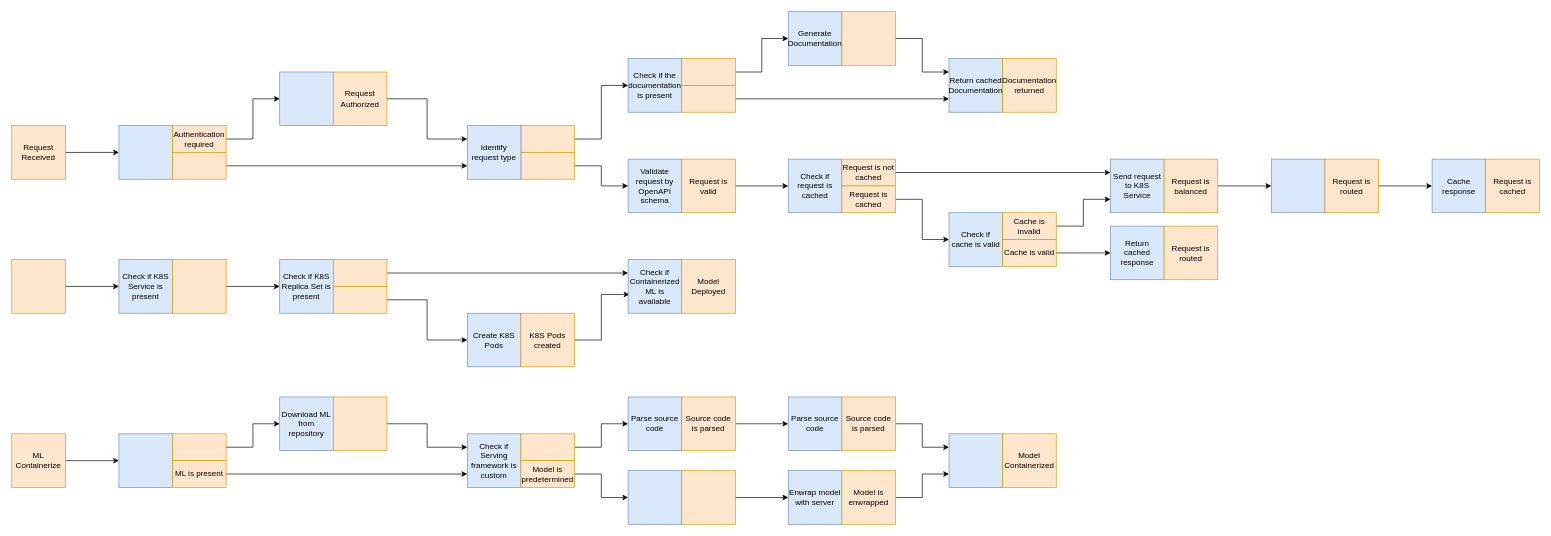
The diagram is 1551 pixels wide and 536 high, and some of its shapes have lost their labels. The shapes that lost their labels are listed below. From the top down, each one's box as (x1, y1, x2, y2) in pixels, then its label:
(841, 11, 895, 65): Documentation updated
(681, 58, 735, 85): Documentation is not present
(279, 71, 333, 126): Authenticate user session
(681, 85, 735, 112): Documentation Present
(118, 125, 173, 179): Check if the authentication is required
(520, 125, 575, 152): Get OpenAPI Documentation
(172, 152, 226, 179): Authentication is not required
(520, 152, 575, 179): Service Request
(1271, 158, 1325, 213): Send request to K8S Pod
(11, 259, 65, 313): ML Deployment
(172, 259, 226, 313): K8S Service is updated
(333, 259, 387, 286): K8S Replica Set is updated
(333, 286, 387, 313): K8S Replica Set is scaled
(333, 396, 387, 451): ML is localy available
(118, 433, 173, 487): Check if ML is present
(172, 433, 226, 461): ML is not present
(520, 433, 575, 461): Model is custom
(948, 433, 1003, 487): Merge model with server
(627, 470, 682, 524): Check if CRD is valid
(681, 470, 735, 524): CRD validated
